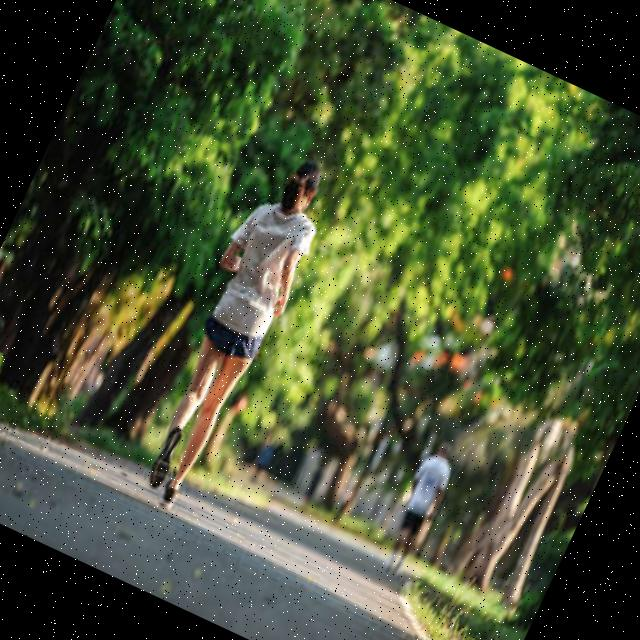Person: (114, 142, 346, 520), (371, 435, 465, 581)
